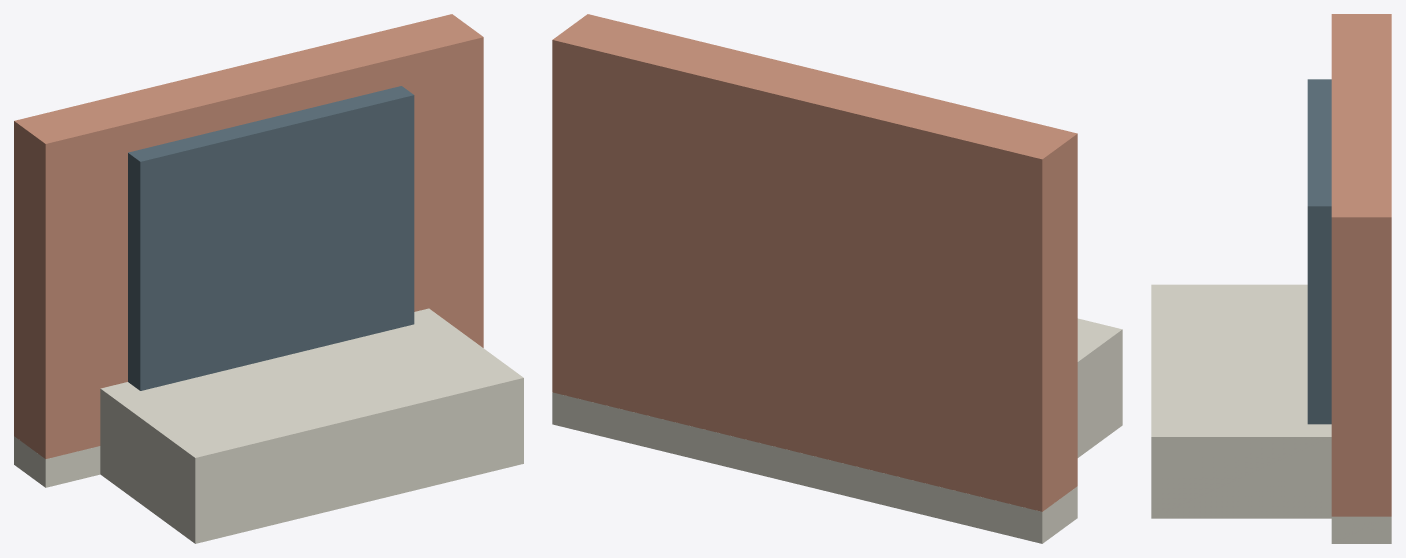
File: voxel-city-districts-loading-door-bay-0e0a2d3d__24811.glb
The picture shows the model from 3 angles, left to right: view 1: azimuth 30°, elevation 25°; view 2: azimuth 150°, elevation 25°; view 3: azimuth 270°, elevation 25°; orthographic projection. The views are drawn at different scales.
Parts seen in each view (by area): view 1: loading-door-bay-brick, loading-door-bay-dark, loading-door-bay-concrete; view 2: loading-door-bay-brick, loading-door-bay-concrete; view 3: loading-door-bay-concrete, loading-door-bay-brick, loading-door-bay-dark.
Part boxes in pixels (x1,y1,x2,y2): loading-door-bay-brick: (14, 14, 483, 458); loading-door-bay-dark: (128, 86, 414, 390); loading-door-bay-concrete: (14, 308, 523, 543); loading-door-bay-brick: (552, 14, 1077, 511); loading-door-bay-concrete: (552, 318, 1122, 543); loading-door-bay-concrete: (1151, 284, 1391, 543); loading-door-bay-brick: (1331, 14, 1391, 516); loading-door-bay-dark: (1307, 79, 1331, 424).
Size of the model in its own units: 4 by 3 by 2.
